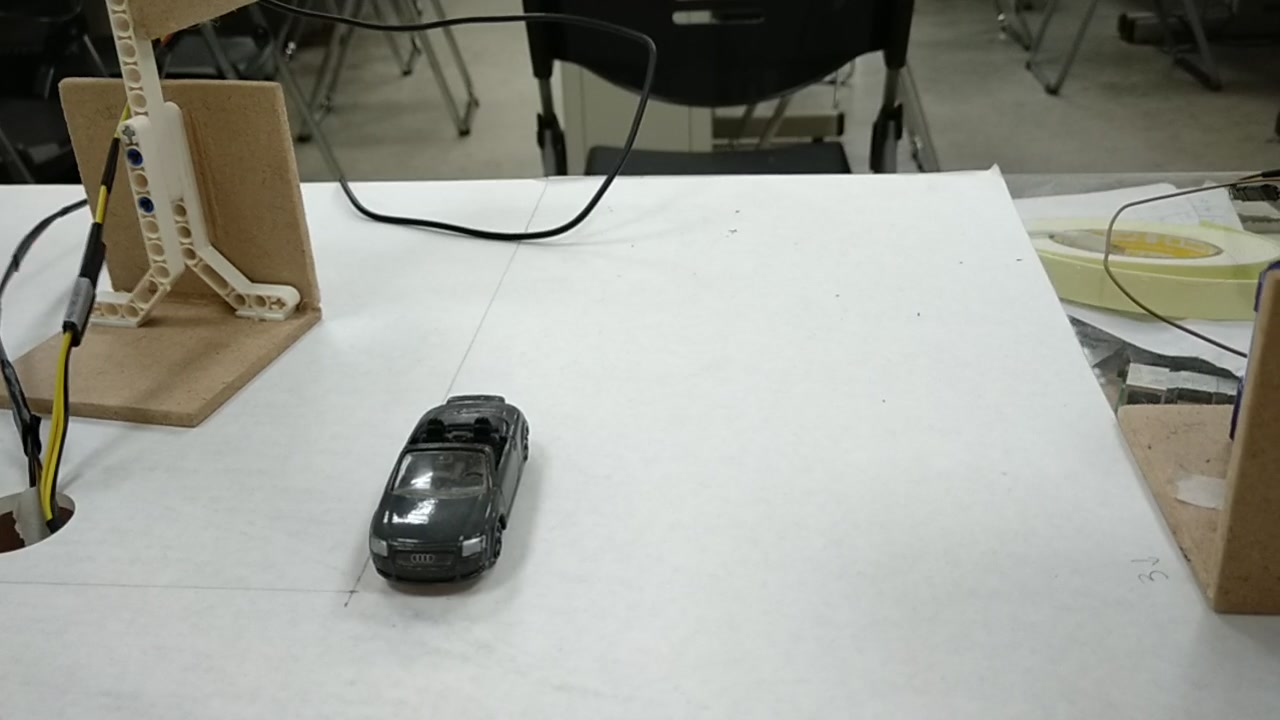car: (366, 397, 531, 600)
